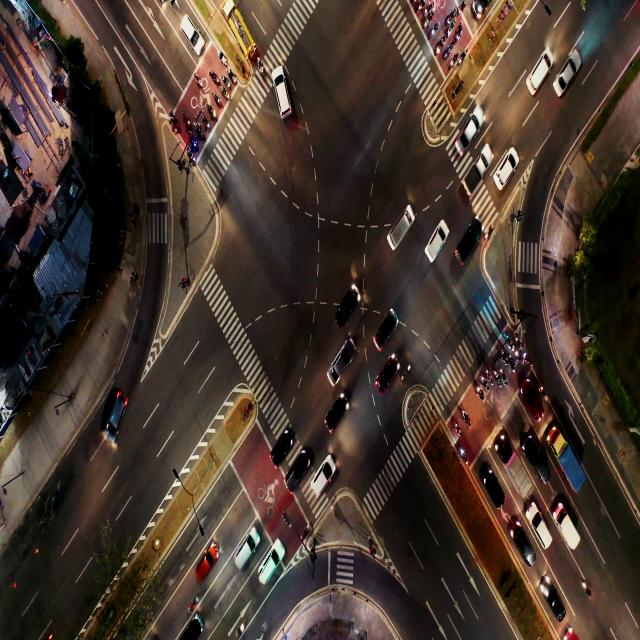bus: (236, 15, 248, 48)
car: (104, 396, 127, 440), (332, 347, 352, 376), (274, 436, 290, 460), (504, 150, 515, 179), (396, 217, 409, 239), (552, 593, 564, 615), (187, 21, 197, 47), (288, 467, 301, 486), (278, 74, 284, 115), (199, 554, 210, 576), (382, 365, 392, 388), (380, 322, 391, 342), (460, 239, 472, 257), (242, 539, 250, 564), (534, 68, 545, 86), (328, 408, 340, 424), (342, 299, 352, 318), (430, 230, 440, 249), (463, 130, 472, 149), (489, 477, 496, 500), (537, 519, 545, 538), (535, 452, 542, 473), (262, 565, 270, 583), (316, 476, 328, 486), (519, 537, 526, 554), (529, 392, 536, 408), (564, 69, 572, 81)
motorcycle: (401, 363, 411, 381), (461, 410, 469, 425), (458, 53, 465, 69), (438, 40, 446, 54), (260, 56, 264, 80), (422, 15, 430, 27), (189, 599, 197, 610), (238, 622, 246, 632), (462, 448, 467, 463), (304, 525, 309, 539), (196, 75, 200, 92), (506, 338, 512, 349), (432, 26, 437, 37), (223, 88, 229, 97), (222, 77, 228, 86), (426, 5, 432, 14), (417, 4, 423, 13), (478, 388, 482, 401), (516, 338, 521, 348), (444, 50, 449, 60), (196, 123, 200, 135), (220, 55, 226, 63), (460, 4, 466, 12), (188, 152, 193, 161), (186, 115, 190, 126), (209, 109, 213, 120), (452, 57, 458, 64), (502, 372, 506, 382), (584, 586, 589, 594), (454, 36, 458, 46), (457, 425, 461, 434), (496, 373, 499, 385), (450, 12, 454, 21), (191, 140, 198, 145), (448, 27, 453, 34), (215, 97, 219, 105), (502, 354, 506, 362), (514, 350, 518, 358), (525, 353, 528, 363), (230, 72, 234, 79), (175, 118, 178, 127), (483, 378, 486, 387), (488, 373, 491, 382), (542, 390, 545, 398), (204, 118, 207, 125), (213, 75, 216, 81), (510, 363, 512, 370)
truck: (473, 155, 484, 182), (510, 456, 520, 484), (562, 516, 572, 538), (560, 448, 571, 466)
